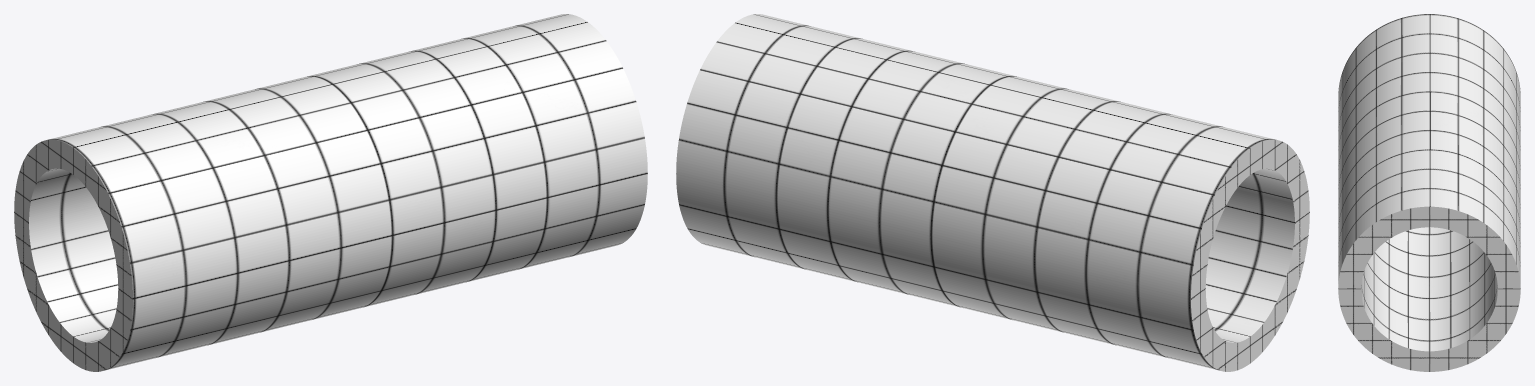
File: pipe1.dae
The picture shows the model from 3 angles, left to right: view 1: azimuth 30°, elevation 25°; view 2: azimuth 150°, elevation 25°; view 3: azimuth 270°, elevation 25°; orthographic projection. The views are drawn at different scales.
Parts seen in each view (by area): view 1: Cylinder; view 2: Cylinder; view 3: Cylinder.
Part boxes in pixels (bbox=[...]): Cylinder: bbox=[14, 14, 647, 371]; Cylinder: bbox=[676, 14, 1309, 371]; Cylinder: bbox=[1338, 14, 1520, 371].
Bounding box in the file's own units: 10 × 4 × 4.
1 material, 1 textured.
